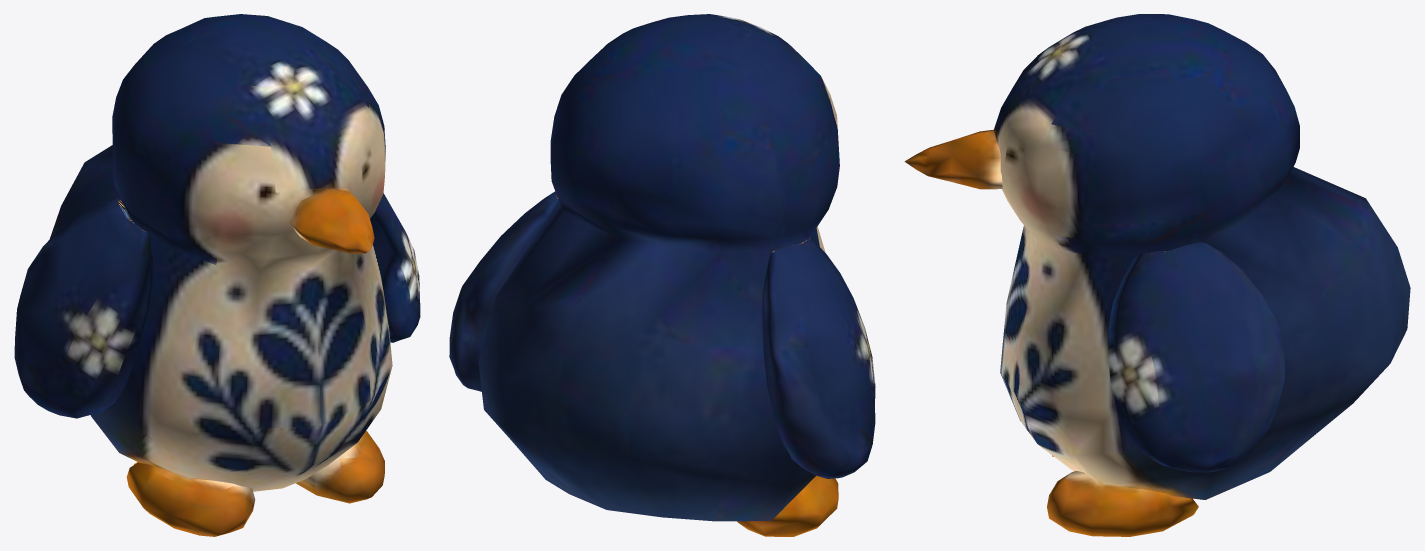
The model's file is penguin-01-12-blue-floral.gltf.
The picture shows the model from 3 angles, left to right: view 1: azimuth 30°, elevation 25°; view 2: azimuth 150°, elevation 25°; view 3: azimuth 270°, elevation 25°; orthographic projection. The views are drawn at different scales.
Parts seen in each view (by area): view 1: penguin-01-12-blue-floral; view 2: penguin-01-12-blue-floral; view 3: penguin-01-12-blue-floral.
Boxes of the visible parts, x1=… form: penguin-01-12-blue-floral: x1=14, y1=14, x2=420, y2=536; penguin-01-12-blue-floral: x1=449, y1=14, x2=875, y2=536; penguin-01-12-blue-floral: x1=904, y1=14, x2=1410, y2=536.
Bounding box in the file's own units: 0.2 × 0.2271 × 0.2261.
Materials: 1 (1 with a texture image).
